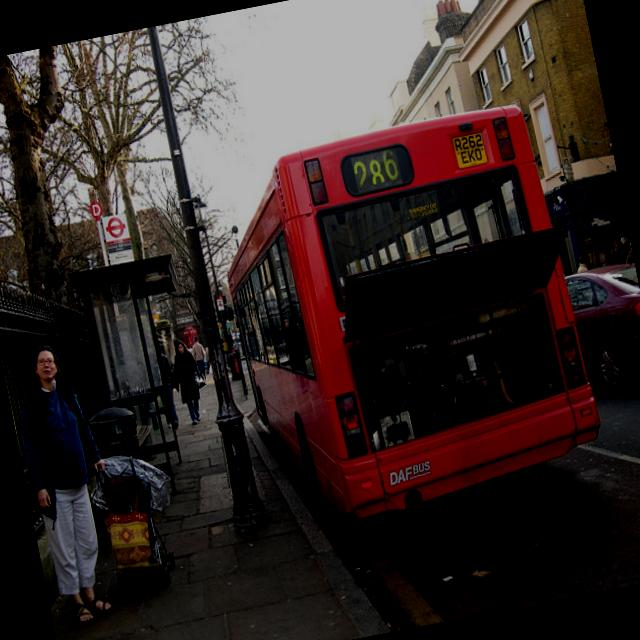Vehicle: (202, 98, 610, 550), (565, 259, 640, 399)
